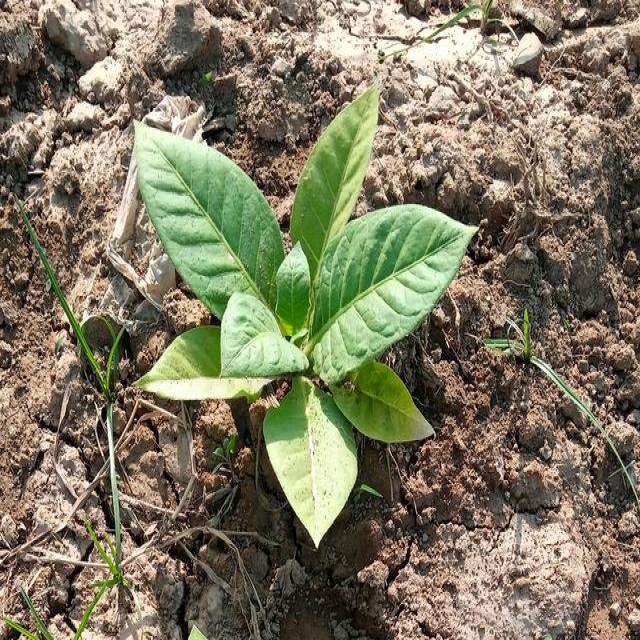crop: (133, 101, 479, 537)
